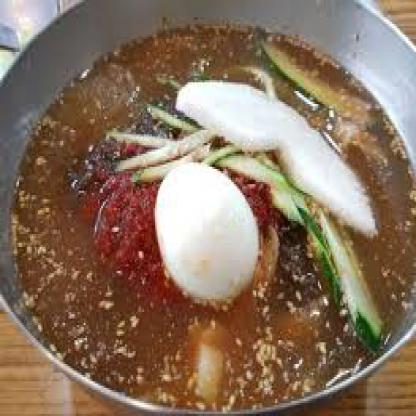naengMyeon: (22, 31, 415, 396)
